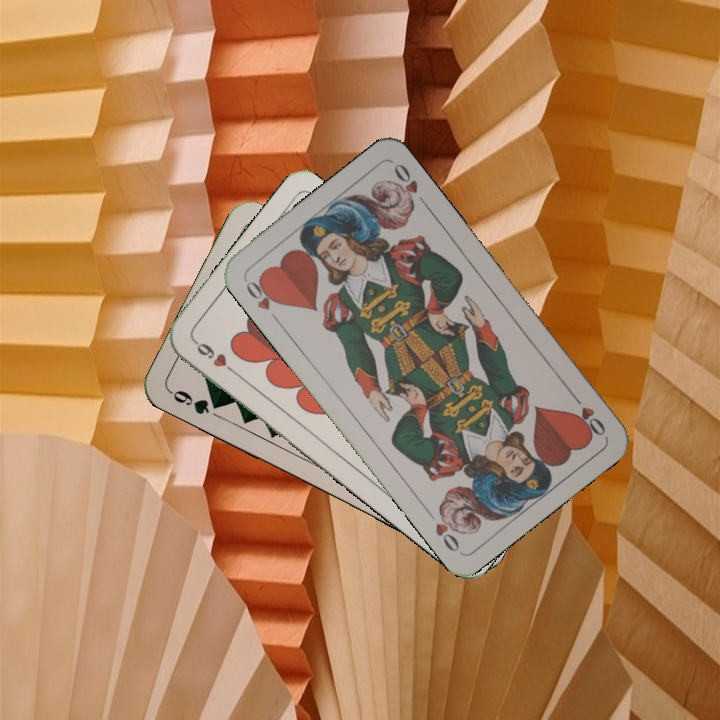G9: (165, 386, 225, 417)
H9: (190, 335, 240, 377)
HO: (241, 274, 283, 326), (567, 388, 608, 439)
